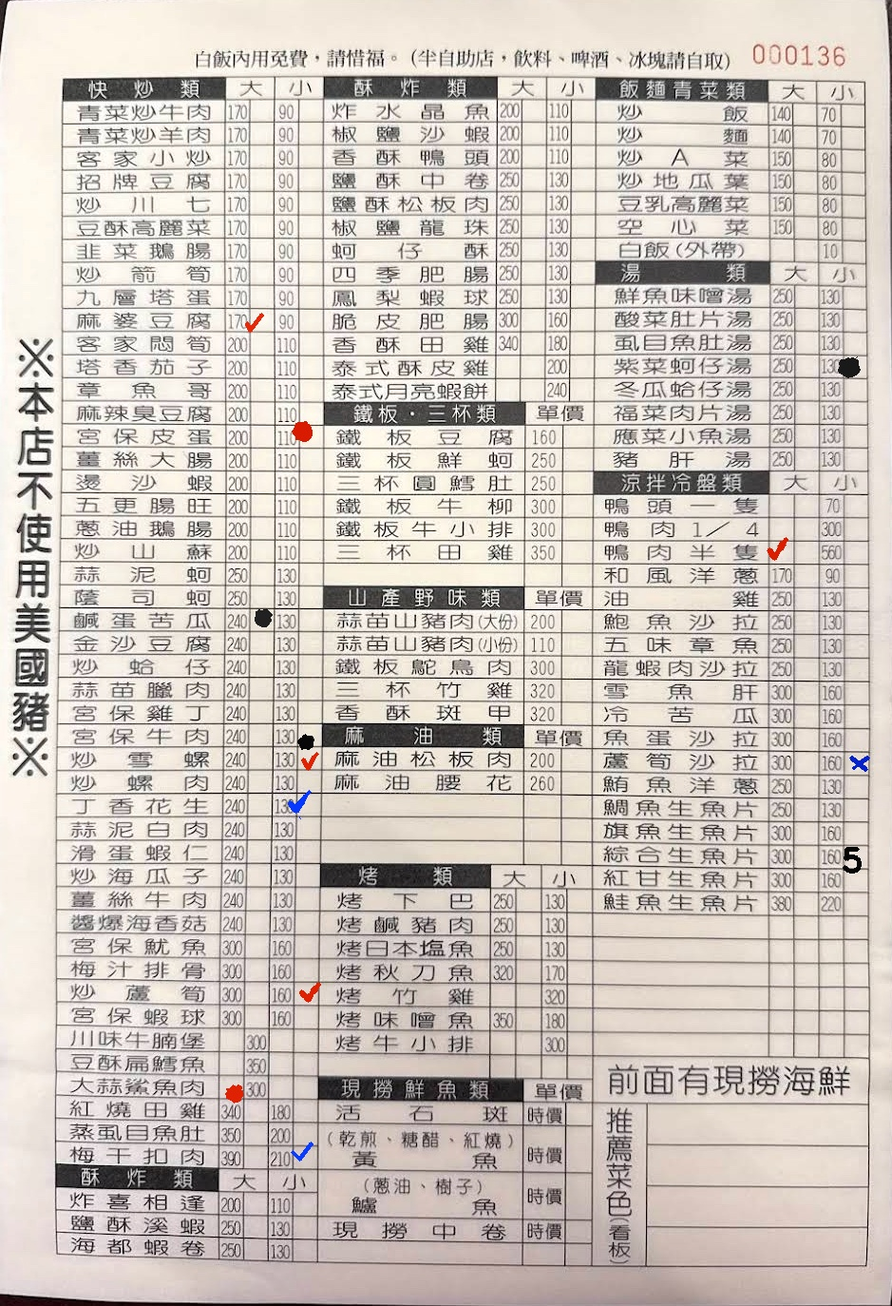marked_circle: (296, 723, 322, 746), (297, 427, 323, 450), (247, 608, 273, 631), (842, 356, 867, 379), (217, 1075, 242, 1098)
marked_number_5: (843, 845, 868, 868)
marked_tick: (248, 308, 274, 331), (294, 747, 320, 770), (292, 1146, 317, 1169), (293, 983, 318, 1006), (768, 541, 793, 564), (294, 794, 320, 816)
marked_x: (845, 752, 870, 775)
